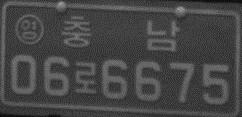0: (9, 53, 37, 95)
5: (201, 62, 230, 105)
6: (41, 55, 70, 98), (134, 59, 162, 102), (99, 59, 128, 100)
7: (168, 60, 195, 102)
로: (73, 60, 98, 94)
영: (14, 13, 44, 45)
충남_D: (61, 14, 179, 52)
